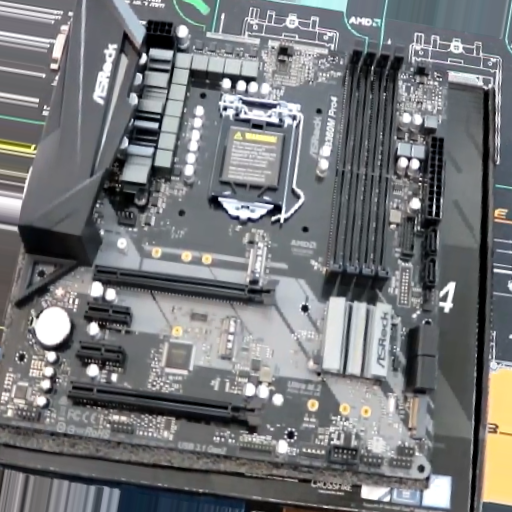CPU: (207, 94, 304, 220)
GPU: (67, 380, 263, 430), (90, 262, 281, 307)
MOTHERBOARD: (1, 18, 450, 476)
RAM: (324, 41, 406, 285)
SSD: (246, 240, 267, 284), (218, 317, 240, 357)
